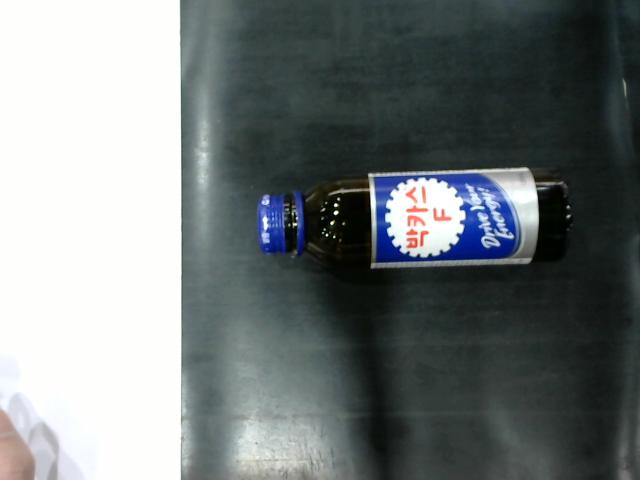glass: (242, 159, 584, 281)
